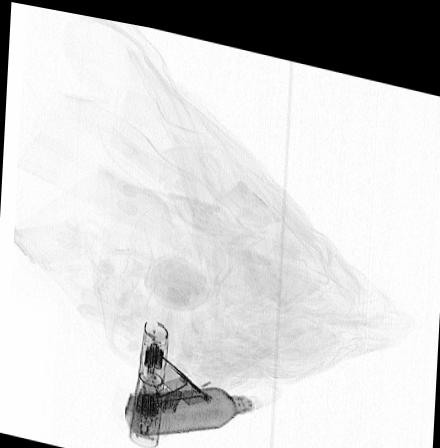Baton: (128, 314, 169, 444)
